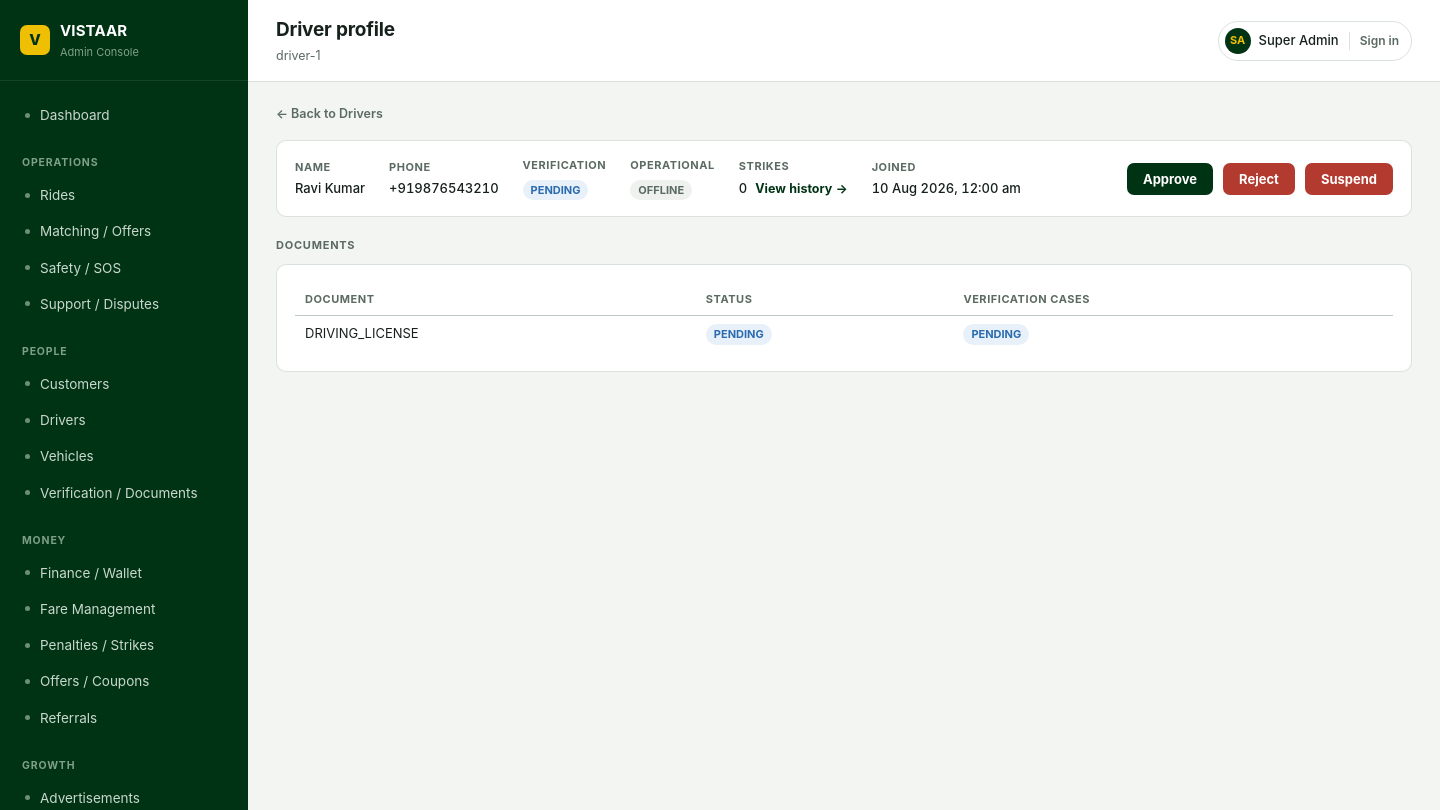
DriverDetailPage › suspends an OFFLINE driver and then offers Reactivate
Click the button "Suspend".
click(1349, 178)  # box [1305,162,1393,194]
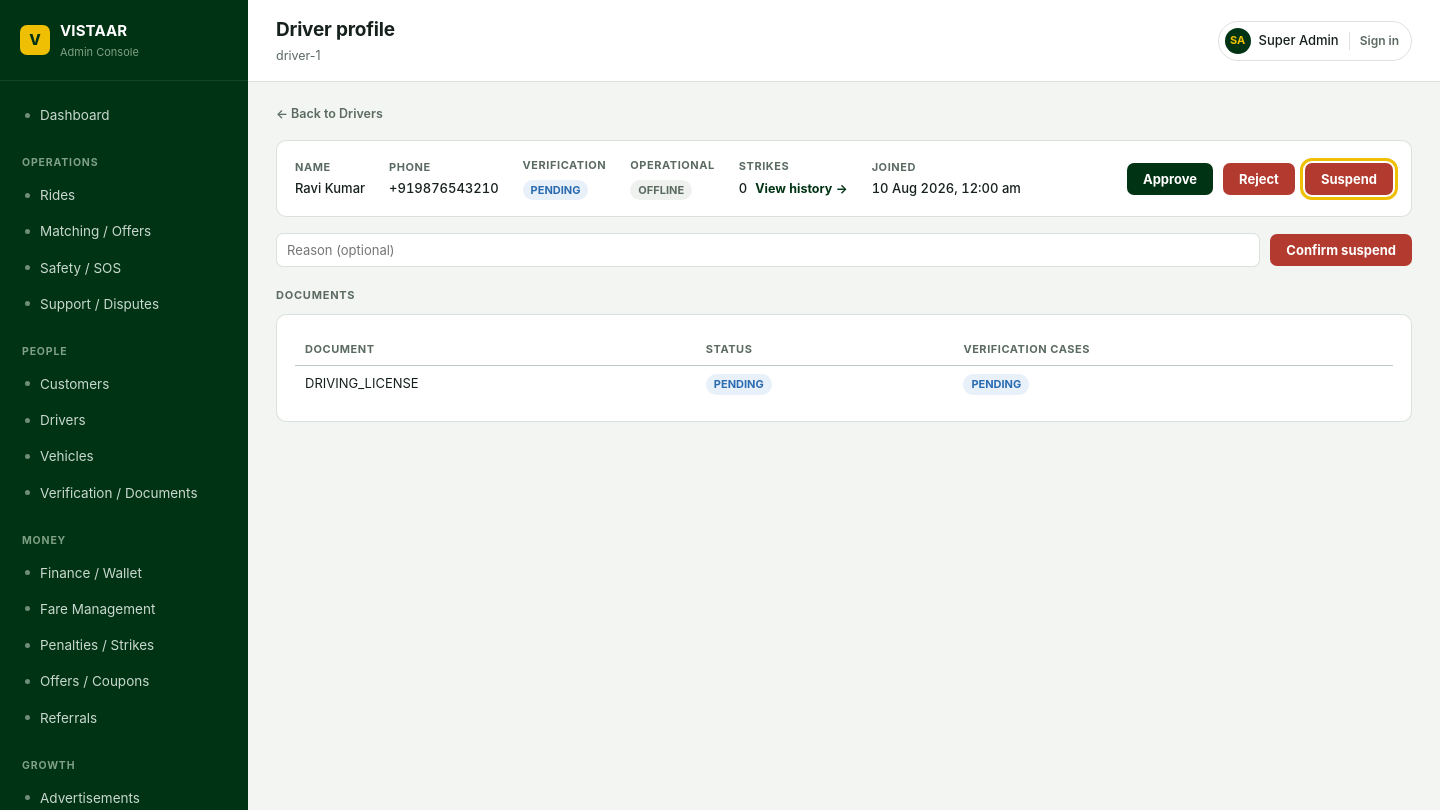
Click the button "Confirm suspend".
click(1341, 250)  # box [1270,234,1412,266]
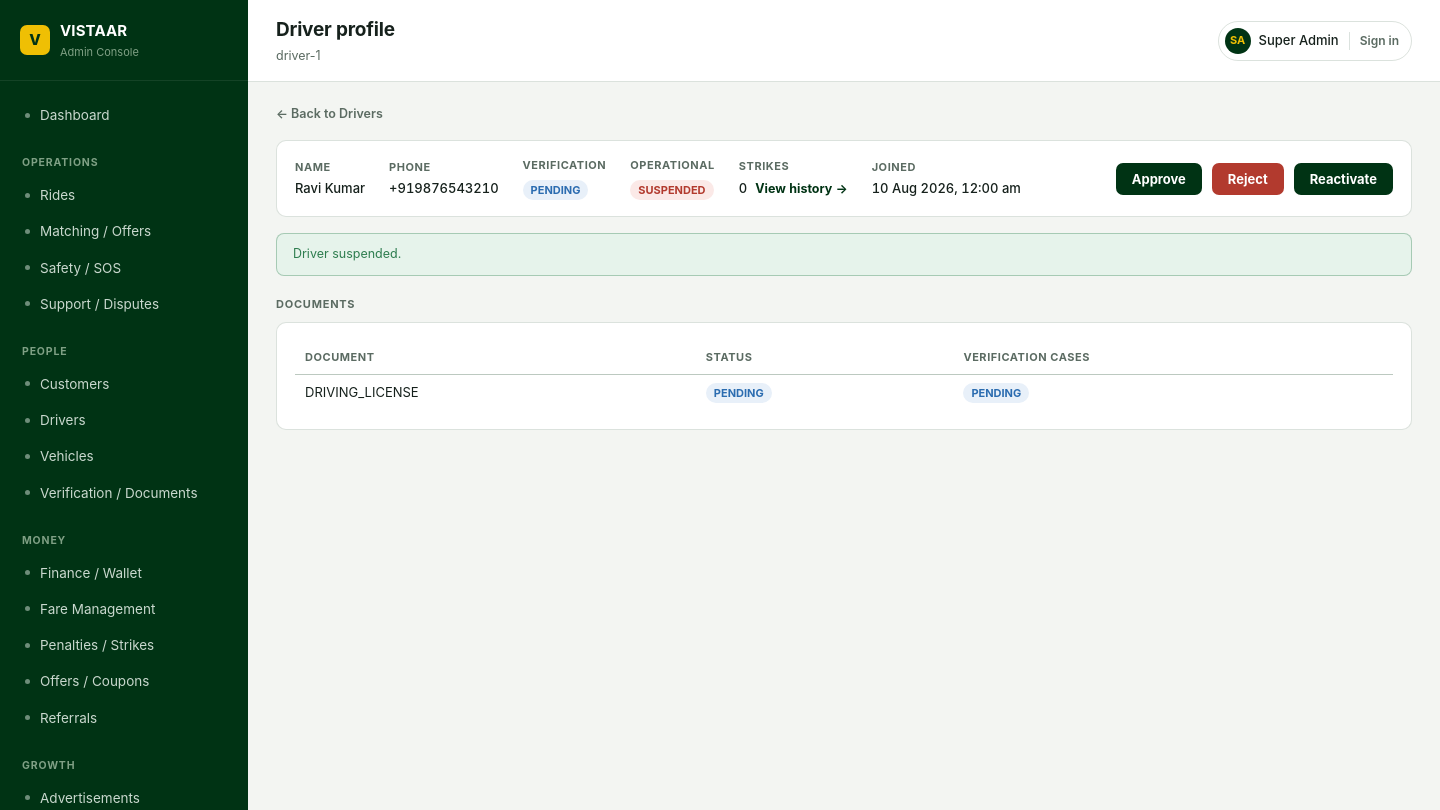
Check: the button "Reactivate" is shown, box [1294,162,1393,194]
